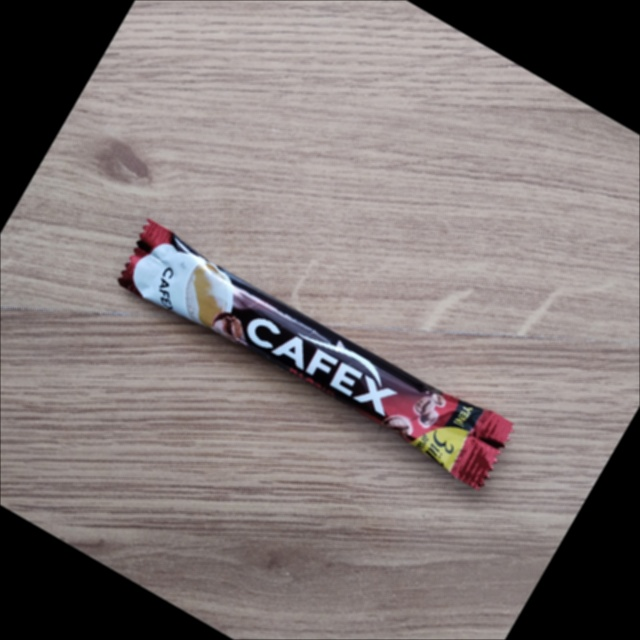cafex_kahve: (123, 220, 510, 489)
